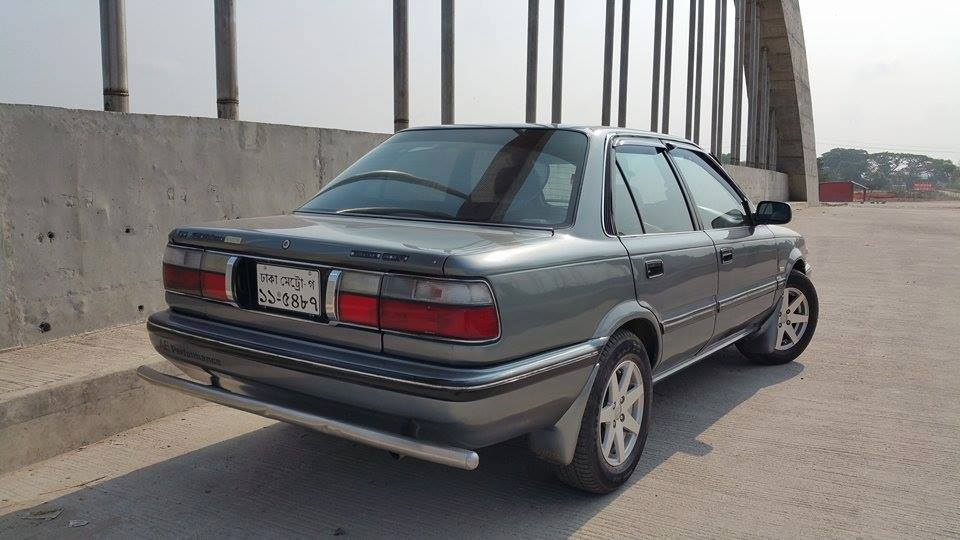registration_plate: (254, 261, 321, 316)
